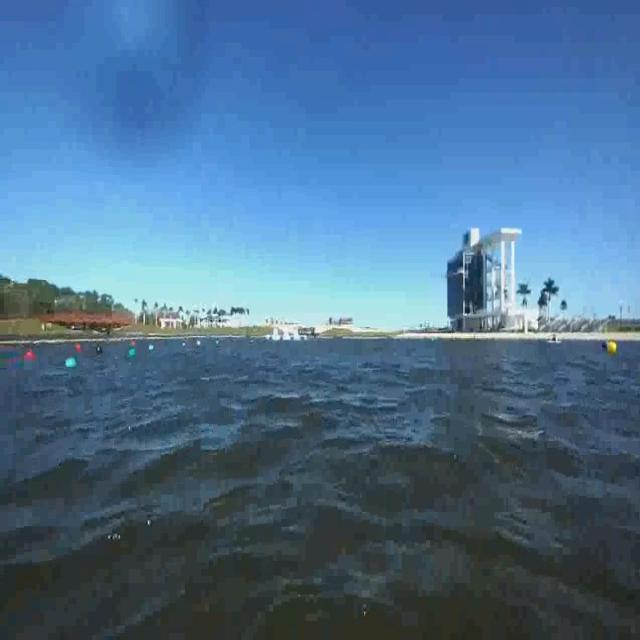black-buoy: (96, 343, 104, 358)
green-buoy: (66, 357, 78, 369), (128, 345, 137, 359)
red-buoy: (26, 350, 37, 362)
yellow-buoy: (610, 340, 620, 358)
